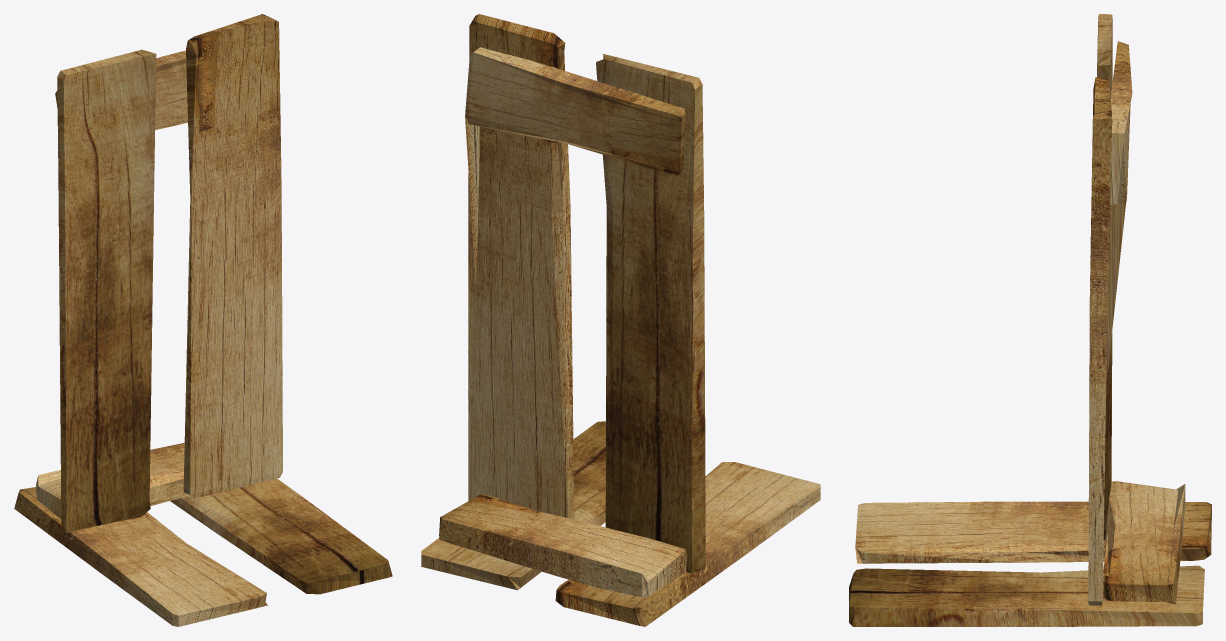
The model's file is stand.obj.
3 views of the same model, side by side, from view 1: azimuth 30°, elevation 25°; view 2: azimuth 150°, elevation 25°; view 3: azimuth 270°, elevation 25° (orthographic). The views are drawn at different scales.
Visible parts, largest first — view 1: stand_2_Cube.001; view 2: stand_2_Cube.001; view 3: stand_2_Cube.001.
Boxes of the visible parts, x1,y1,x2,y2 form: stand_2_Cube.001: [14, 14, 392, 626]; stand_2_Cube.001: [421, 14, 820, 626]; stand_2_Cube.001: [849, 14, 1211, 626].
Size of the model in its own units: 1.5 by 3.2 by 2.05.
Materials: 1 (1 with a texture image).
